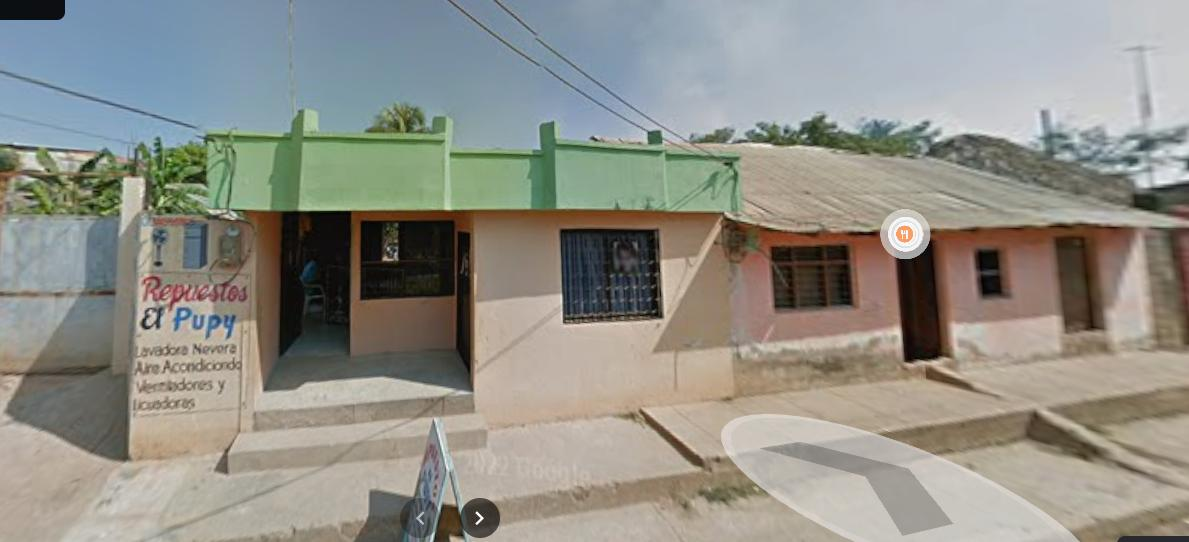casa: (126, 110, 741, 472), (732, 146, 1169, 394)
